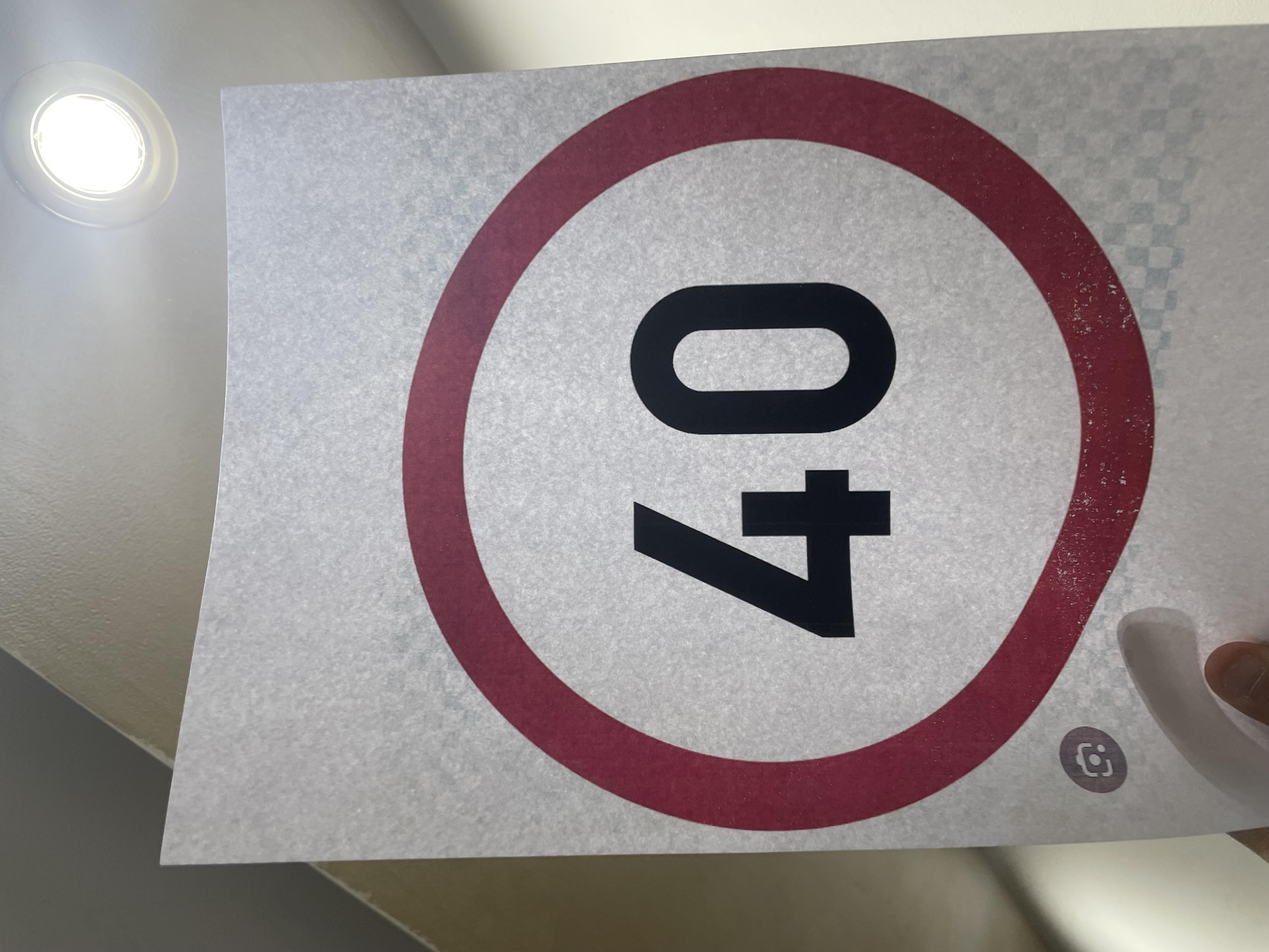40-Speed: (177, 293, 1167, 857)
